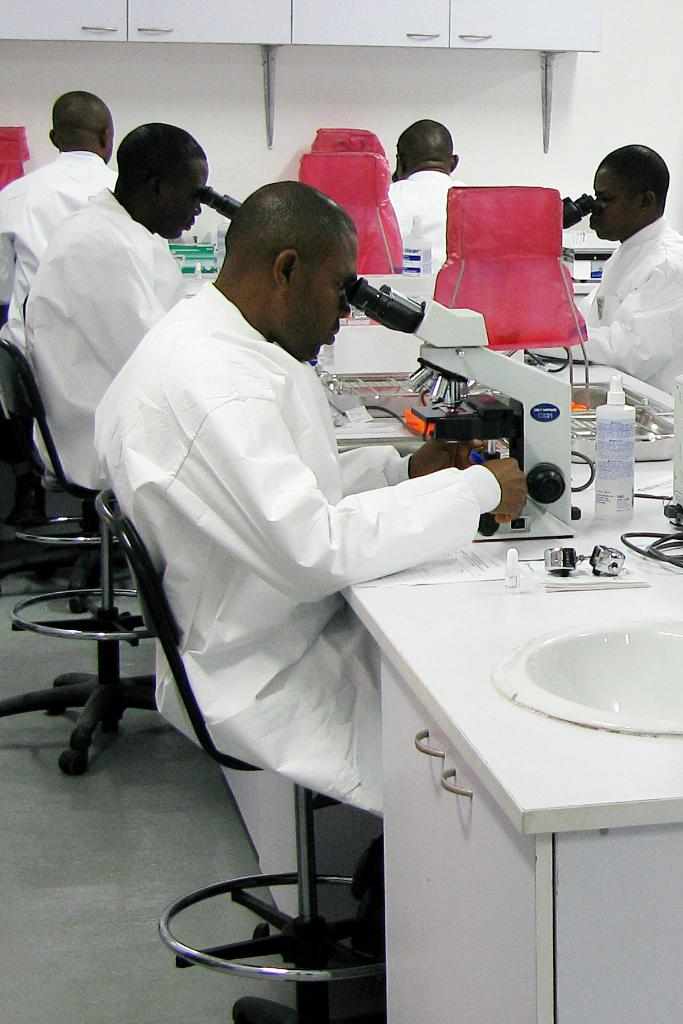Person: (0, 84, 173, 524), (502, 147, 683, 397), (385, 112, 469, 272)
